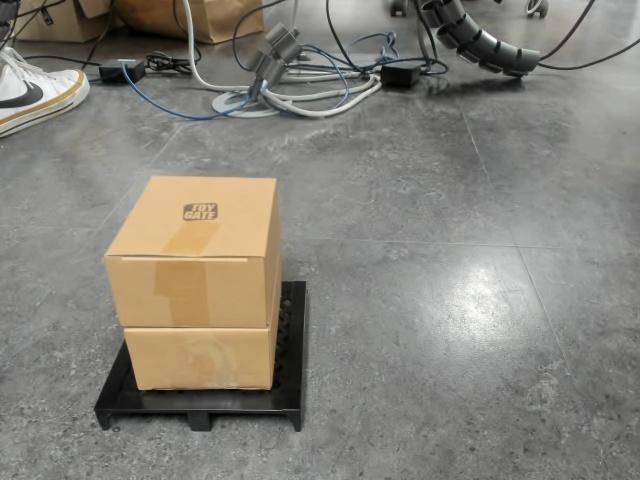box: (92, 175, 310, 433)
